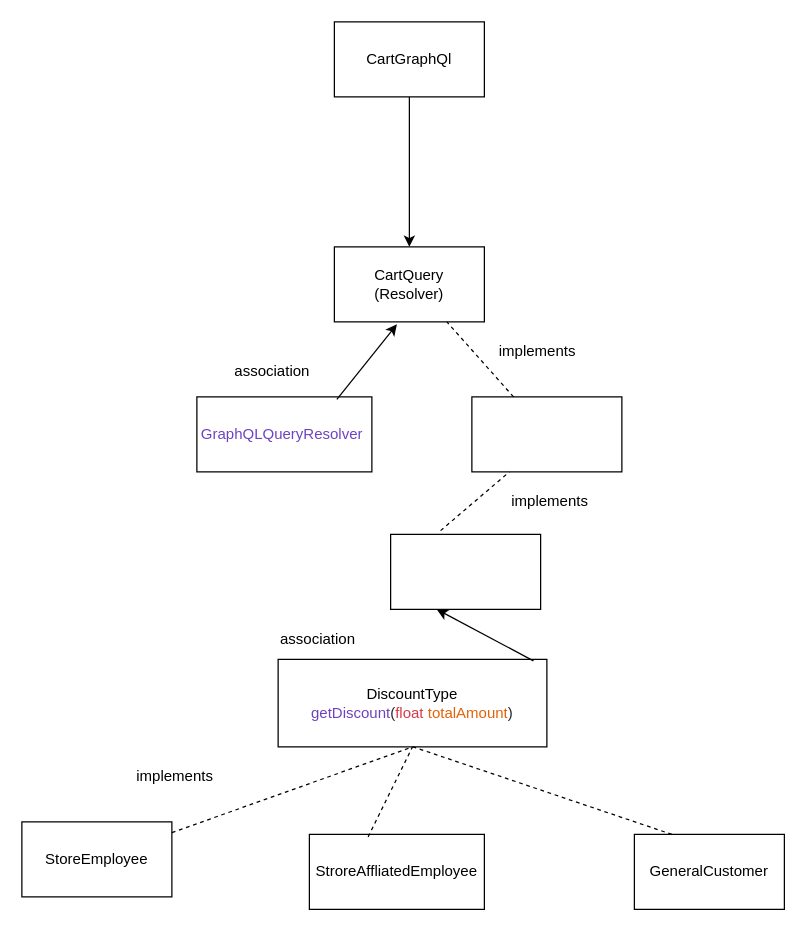
Image size: 806x931. Some labels were removed from this diagram. Each missing label, with the box of its shape:
PaymentService: (471, 396, 622, 472)
PaymentServiceImpl: (389, 533, 541, 609)
